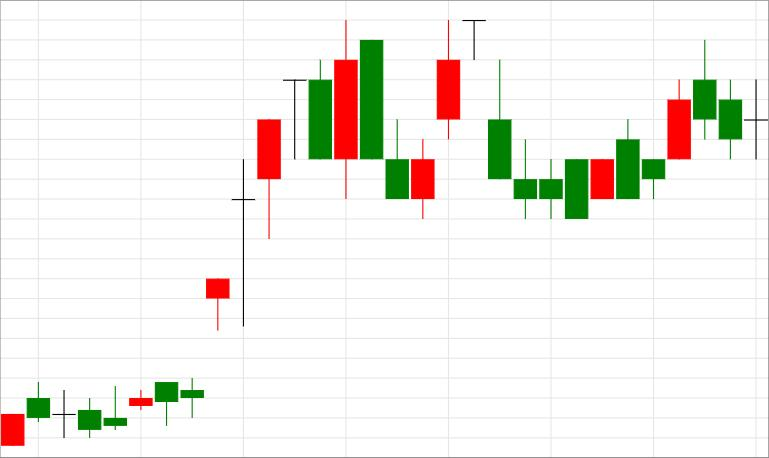evening_star_fall: (129, 59, 331, 426), (385, 20, 511, 221)
